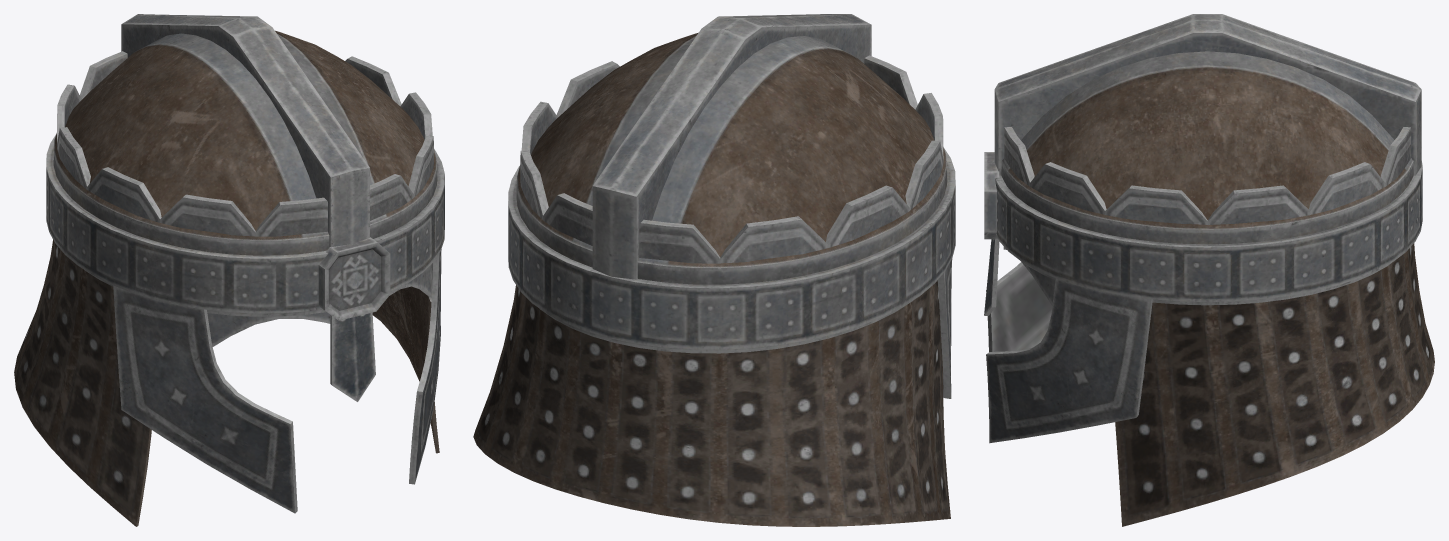
The model's file is sk_dwarf_erebor_helmet_leather_med_b.fbx.
3 views of the same model, side by side, from view 1: azimuth 30°, elevation 25°; view 2: azimuth 150°, elevation 25°; view 3: azimuth 270°, elevation 25° (orthographic). The views are drawn at different scales.
Parts seen in each view (by area): view 1: sk_dwarf_erebor_helmet_leather_med_b; view 2: sk_dwarf_erebor_helmet_leather_med_b; view 3: sk_dwarf_erebor_helmet_leather_med_b.
Part boxes in pixels (x1,y1,x2,y2): sk_dwarf_erebor_helmet_leather_med_b: (14,14,444,526); sk_dwarf_erebor_helmet_leather_med_b: (473,14,955,526); sk_dwarf_erebor_helmet_leather_med_b: (984,14,1434,526).
Size of the model in its own units: 0.2795 by 0.2995 by 0.3178.
